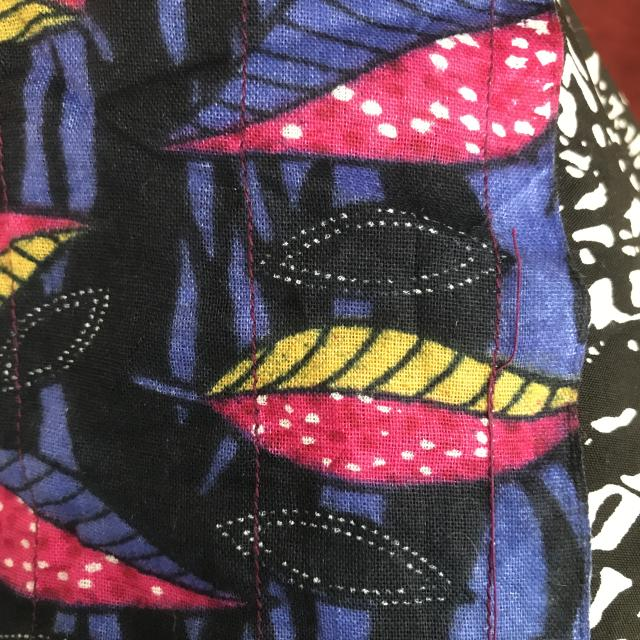good: (240, 189, 274, 332), (235, 446, 284, 512), (226, 22, 256, 114)
